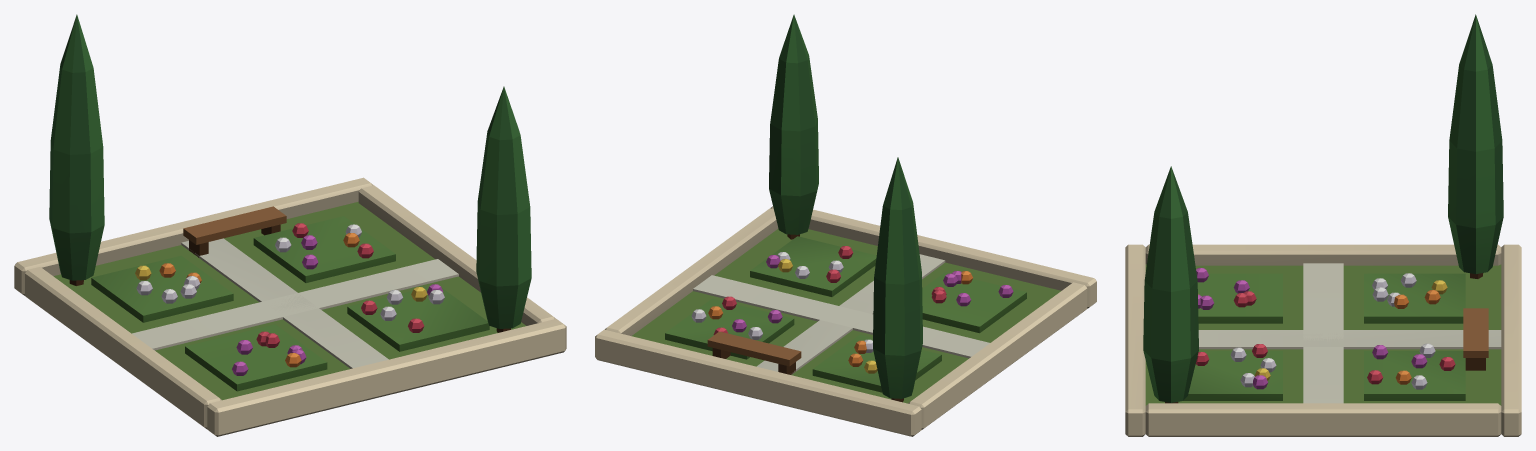
The model's file is city_garden.glb.
The picture shows the model from 3 angles, left to right: view 1: azimuth 30°, elevation 25°; view 2: azimuth 150°, elevation 25°; view 3: azimuth 270°, elevation 25°; orthographic projection. The views are drawn at different scales.
Parts seen in each view (by area): view 1: city_garden; view 2: city_garden; view 3: city_garden.
Part boxes in pixels (x1,y1,x2,y2): city_garden: (14,14,566,436); city_garden: (595,14,1096,436); city_garden: (1125,14,1521,436).
Size of the model in its own units: 0.78 by 0.6 by 0.78.
